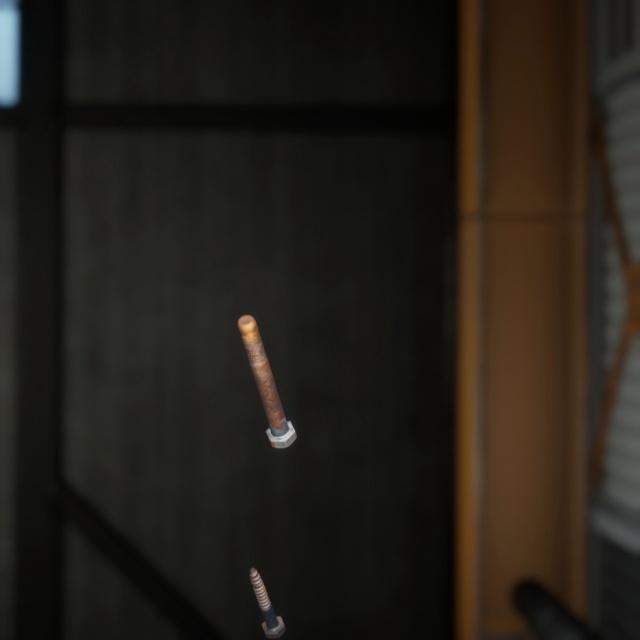bolt: (233, 290, 301, 433), (245, 539, 290, 619)
